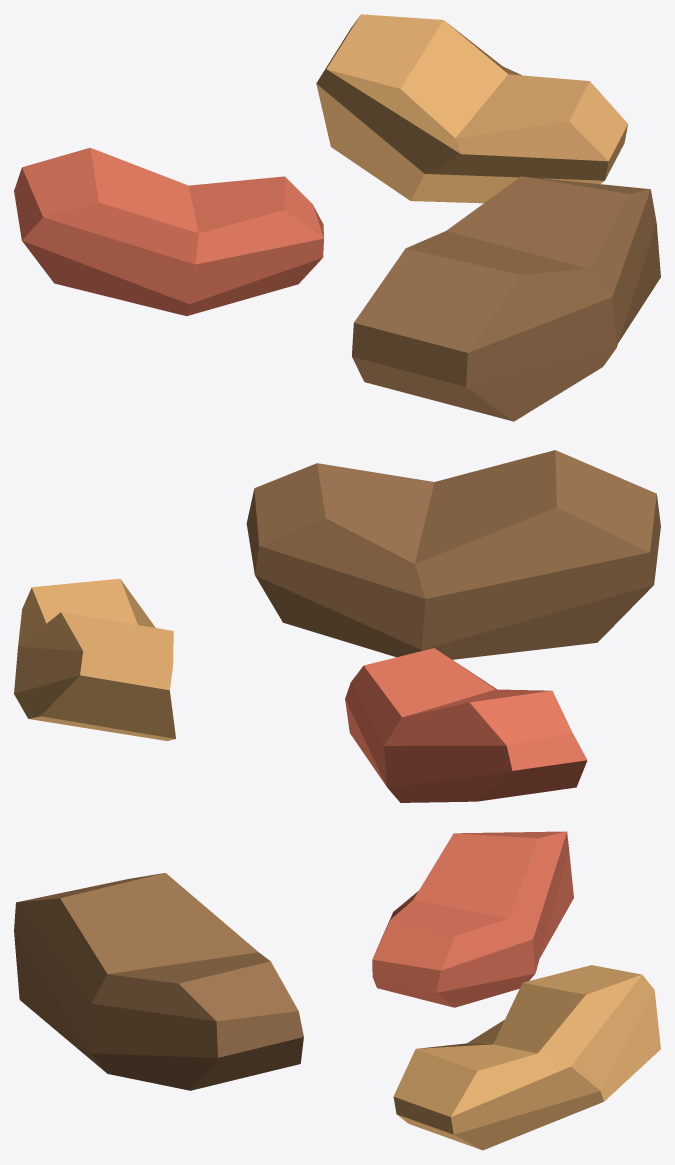
Rendered from sementes.fbx.
3 renders of one model, top to bottom at view 1: azimuth 30°, elevation 25°; view 2: azimuth 150°, elevation 25°; view 3: azimuth 270°, elevation 25°, orthographic. The views are drawn at different scales.
Parts seen in each view (by area): view 1: Cube, Cube.002, Cube.001; view 2: Cube, Cube.001, Cube.002; view 3: Cube, Cube.002, Cube.001.
Boxes of the visible parts, left/top/right/bottom form: Cube: left=352, top=176, right=660, bottom=421; Cube.002: left=316, top=14, right=627, bottom=203; Cube.001: left=14, top=147, right=323, bottom=316; Cube: left=246, top=450, right=660, bottom=659; Cube.001: left=345, top=648, right=587, bottom=802; Cube.002: left=14, top=578, right=175, bottom=740; Cube: left=14, top=873, right=303, bottom=1090; Cube.002: left=393, top=965, right=660, bottom=1150; Cube.001: left=372, top=831, right=573, bottom=1007.
Bounding box in the file's own units: 54.37 × 12.9 × 56.36.
